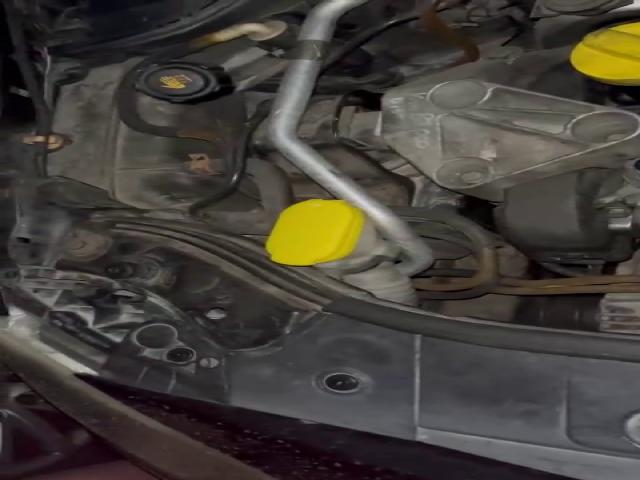antifreeze_tank: (49, 59, 245, 209)
